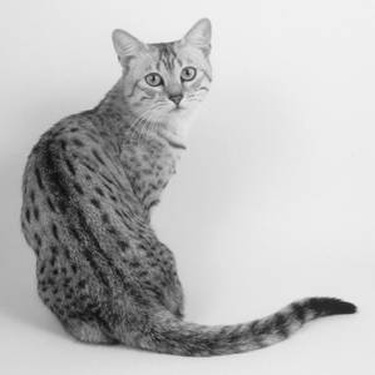cat: (18, 17, 352, 342)
